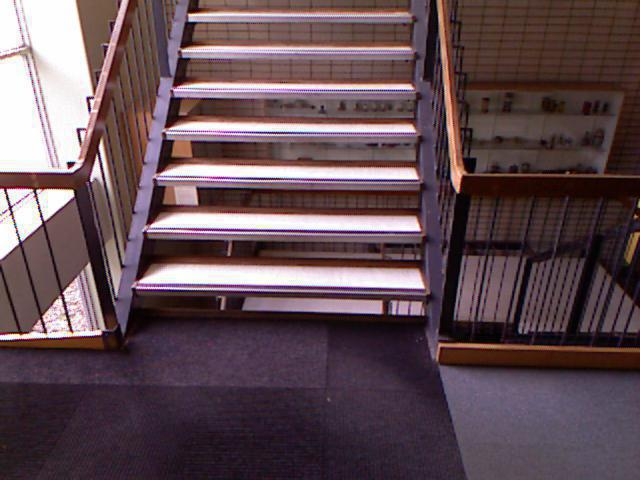Escaleras: (124, 0, 436, 341)
